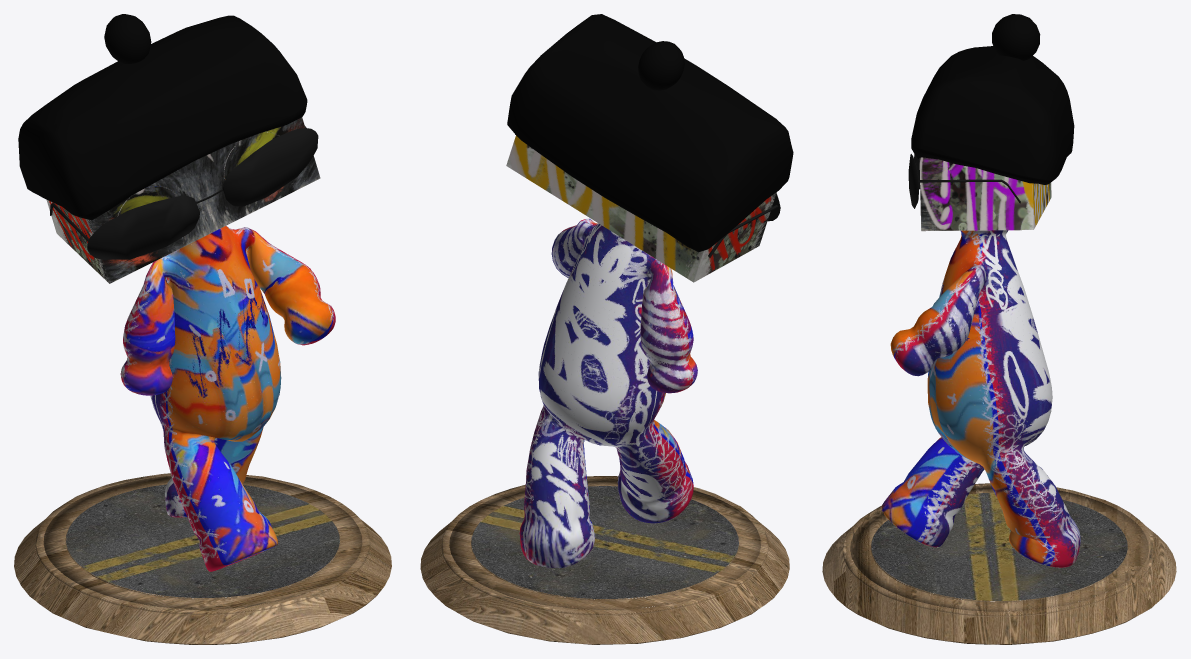
The picture shows the model from 3 angles, left to right: view 1: azimuth 30°, elevation 25°; view 2: azimuth 150°, elevation 25°; view 3: azimuth 270°, elevation 25°; orthographic projection. The views are drawn at different scales.
Visible parts, largest first — view 1: BBody; view 2: BBody; view 3: BBody.
Boxes of the visible parts, bbox=[...] form: BBody: bbox=[14, 14, 391, 644]; BBody: bbox=[420, 14, 793, 644]; BBody: bbox=[822, 14, 1176, 644].
Bounding box in the file's own units: 1.45 × 2.36 × 1.45.
Materials: 6 (4 with a texture image).
